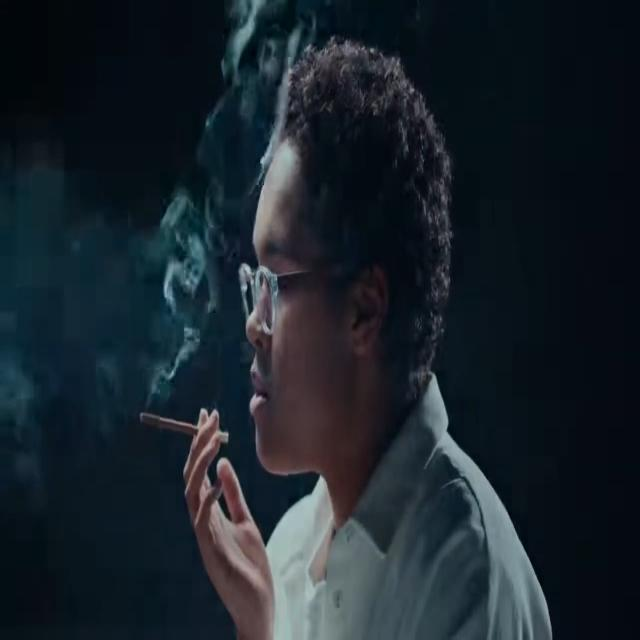Курение: (136, 397, 233, 466)
